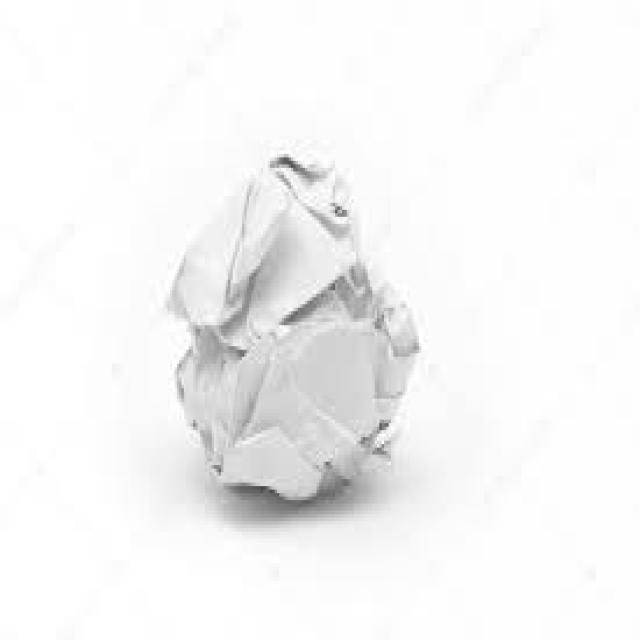paper: (165, 147, 417, 503)
